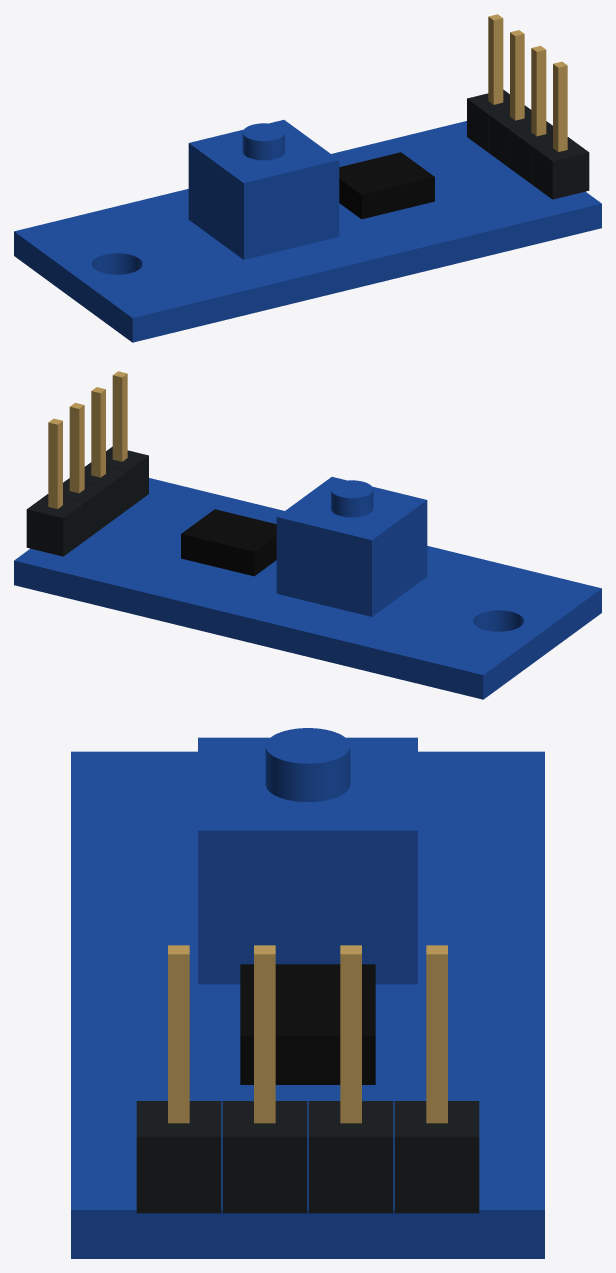
3 renders of one model, top to bottom at view 1: azimuth 30°, elevation 25°; view 2: azimuth 150°, elevation 25°; view 3: azimuth 270°, elevation 25°, orthographic. The views are drawn at different scales.
Parts seen in each view (by area): view 1: lm393; view 2: lm393; view 3: lm393.
Part boxes in pixels (x1,y1,x2,y2): lm393: (14,14,601,342); lm393: (14,371,601,699); lm393: (71,728,544,1258).
Bounding box in the file's own units: 32.25 × 9.6 × 14.
